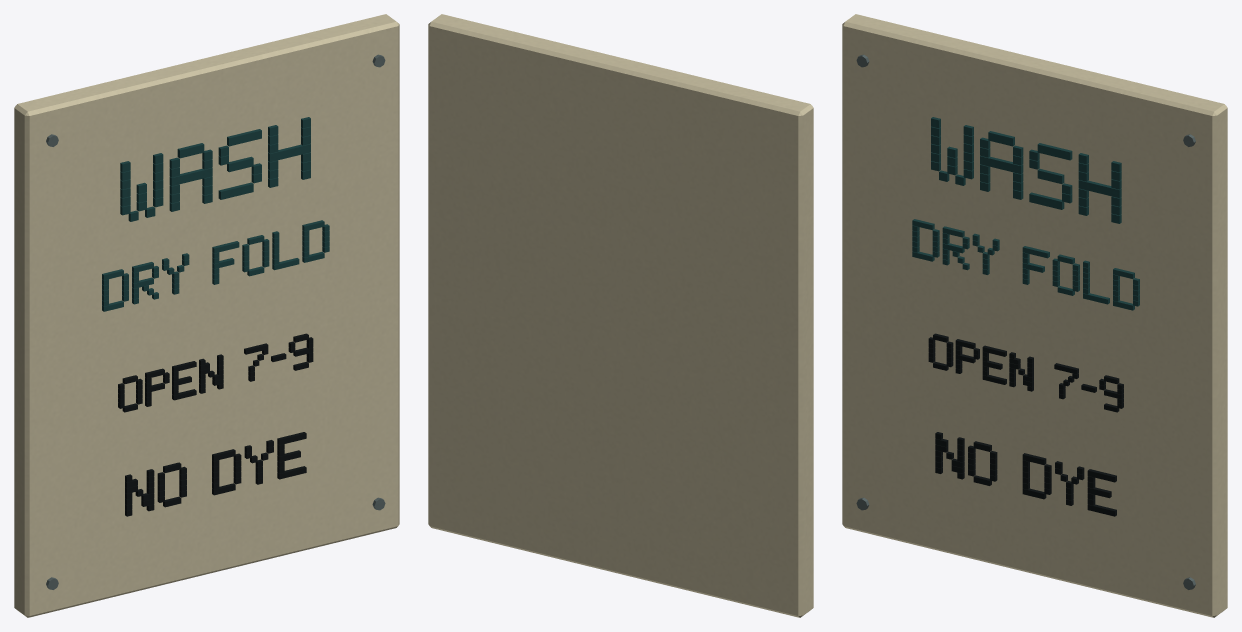
Rendered from laundry_rules_sign.glb.
3 renders of one model, left to right at view 1: azimuth 30°, elevation 25°; view 2: azimuth 150°, elevation 25°; view 3: azimuth 330°, elevation 25°, orthographic.
Visible parts, largest first — view 1: laundry_rules_sign; view 2: laundry_rules_sign; view 3: laundry_rules_sign.
Boxes of the visible parts, x1,y1,x2,y2 form: laundry_rules_sign: [14, 14, 399, 617]; laundry_rules_sign: [428, 14, 813, 617]; laundry_rules_sign: [842, 14, 1227, 617].
Size of the model in its own units: 0.62 by 0.8 by 0.048.
4 materials, 4 textured.
